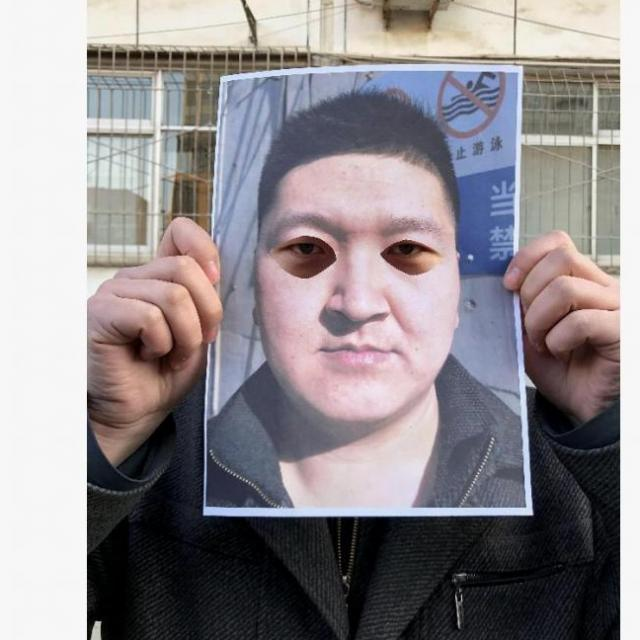mask: (202, 64, 542, 523)
